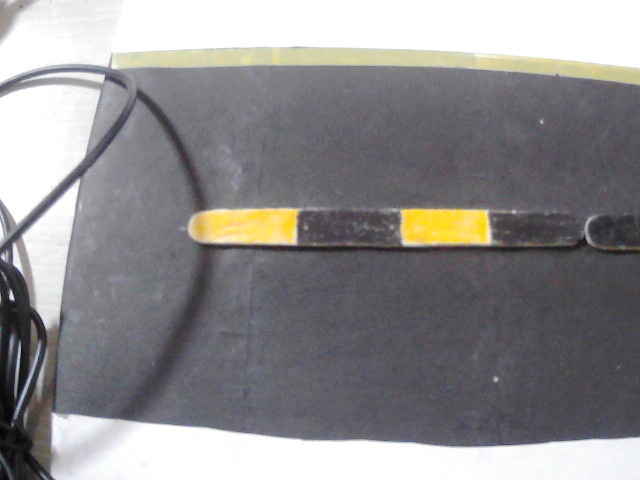black_strip: (298, 210, 404, 246), (491, 207, 581, 240), (592, 214, 640, 246)
mixed_lane: (184, 205, 639, 247)
yellow_strip: (187, 213, 299, 243), (407, 209, 495, 242)
